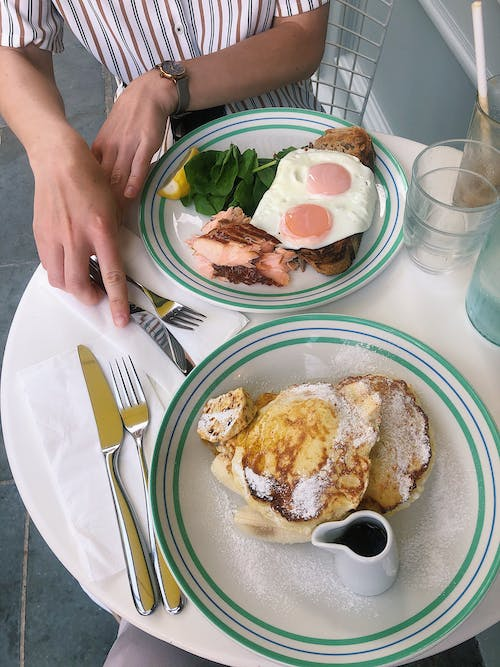knife: (74, 341, 161, 619), (90, 260, 197, 379)
